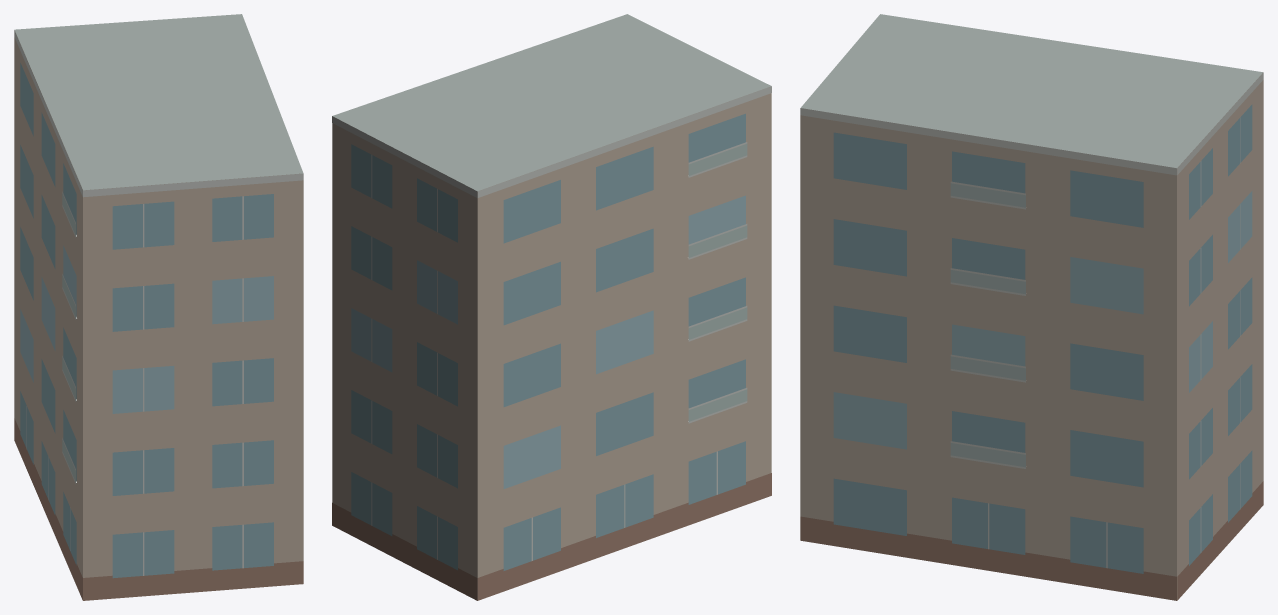
File: survey-upis-33030658.glb
3 renders of one model, left to right at view 1: azimuth 30°, elevation 25°; view 2: azimuth 150°, elevation 25°; view 3: azimuth 270°, elevation 25°, orthographic. The views are drawn at different scales.
Visible parts, largest first — view 1: survey-upis-33030658.tmp; view 2: survey-upis-33030658.tmp; view 3: survey-upis-33030658.tmp.
Part boxes in pixels (bbox=[...]): survey-upis-33030658.tmp: bbox=[14, 14, 303, 600]; survey-upis-33030658.tmp: bbox=[332, 14, 771, 600]; survey-upis-33030658.tmp: bbox=[800, 14, 1263, 600].
Size of the model in its own units: 11.07 by 14.47 by 14.05.
